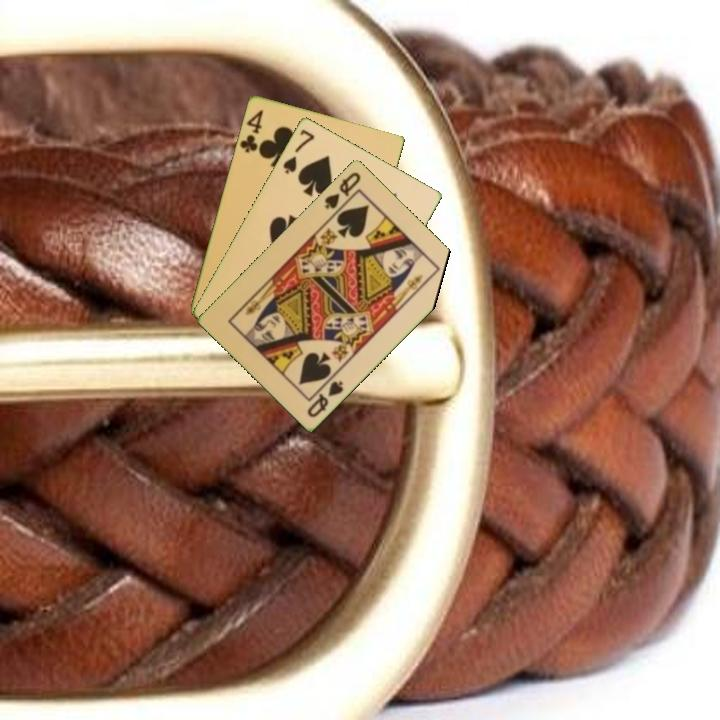4c: (236, 106, 266, 155)
7s: (279, 125, 318, 177)
Qs: (303, 371, 346, 420), (321, 168, 364, 212)
